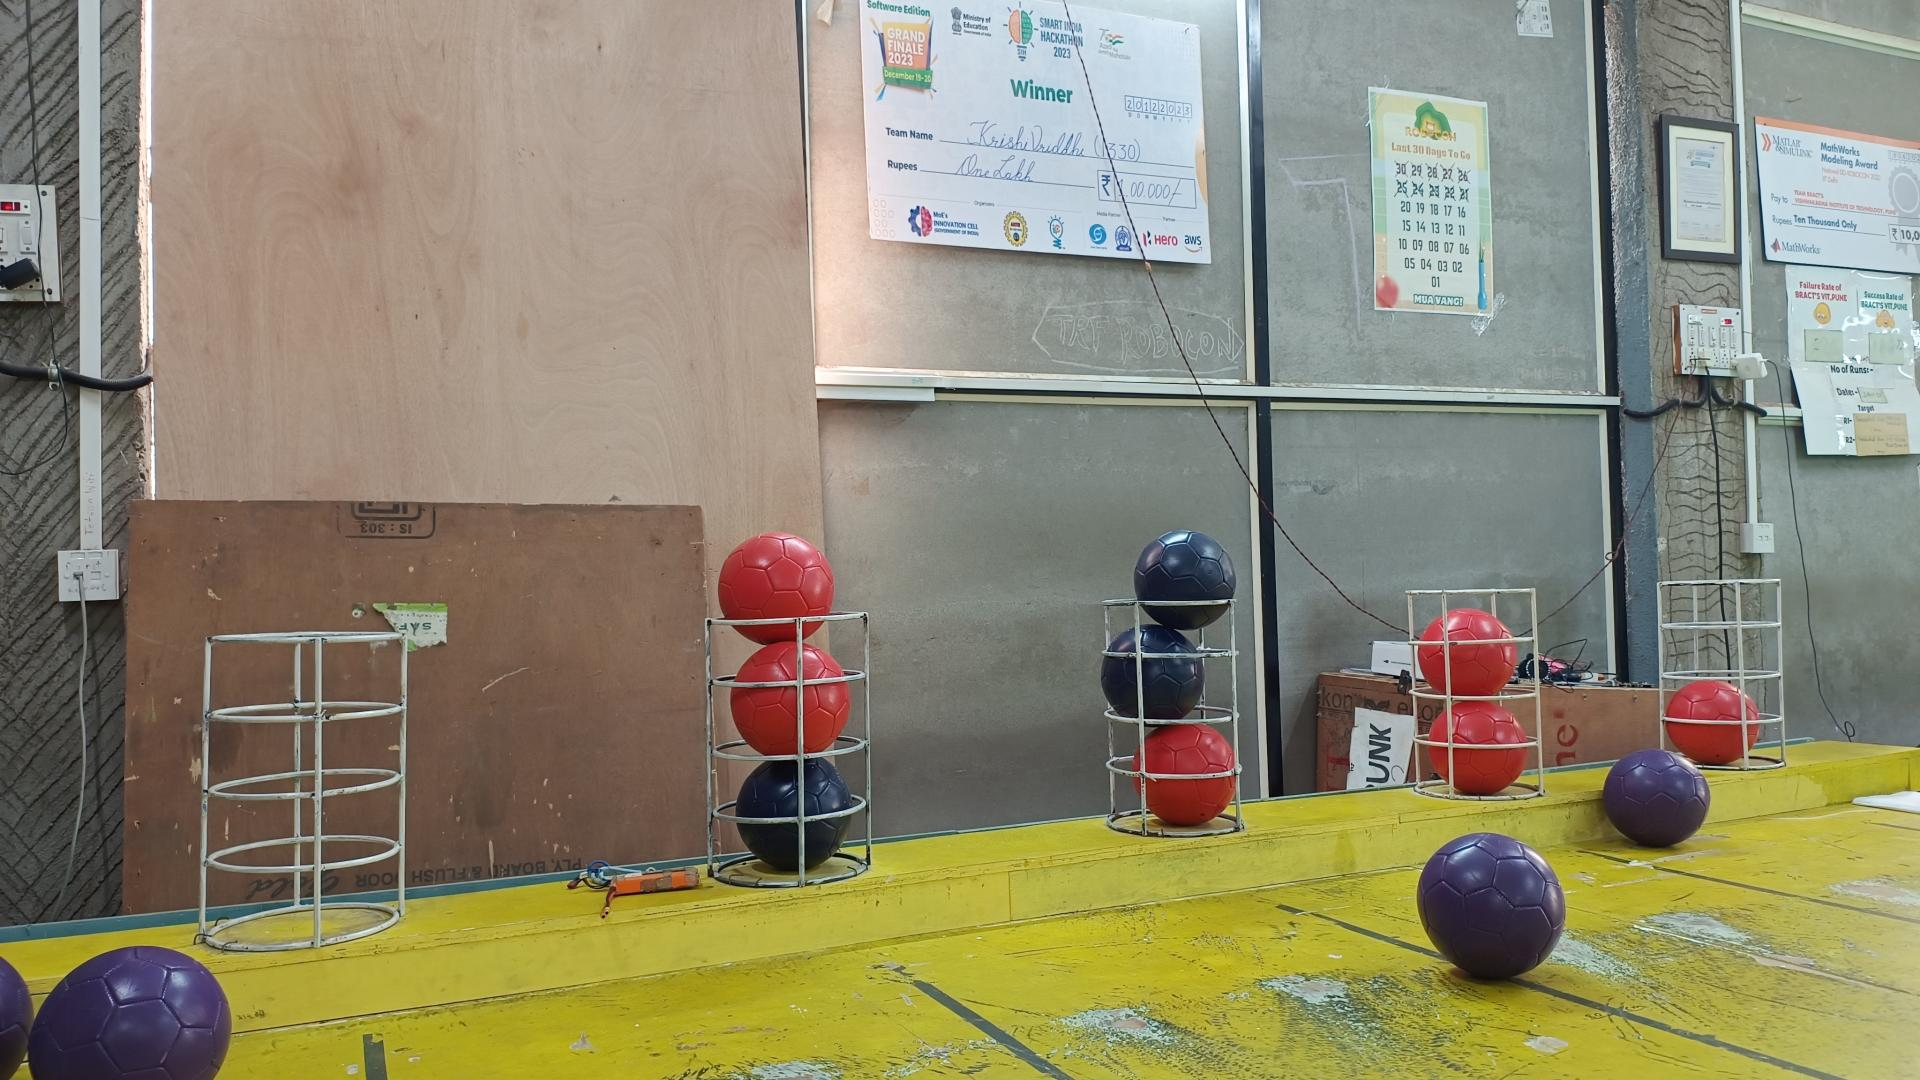dhoka: (737, 757, 853, 873), (1098, 622, 1204, 720), (1134, 531, 1234, 629)
laale: (729, 641, 849, 757), (716, 531, 832, 645), (1131, 723, 1233, 824), (1429, 702, 1531, 795), (1419, 609, 1516, 699), (1665, 679, 1759, 765)
